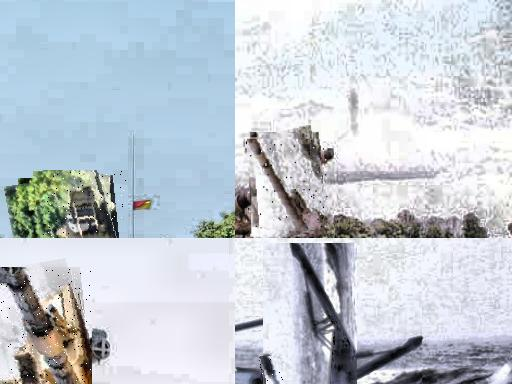tanks: (1, 269, 92, 384), (294, 245, 359, 384), (247, 140, 327, 235), (261, 358, 279, 384)
